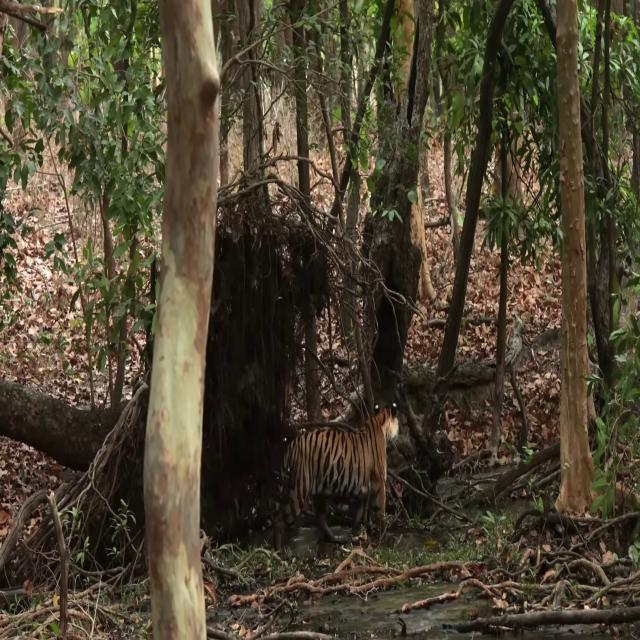tiger: (271, 400, 402, 554)
